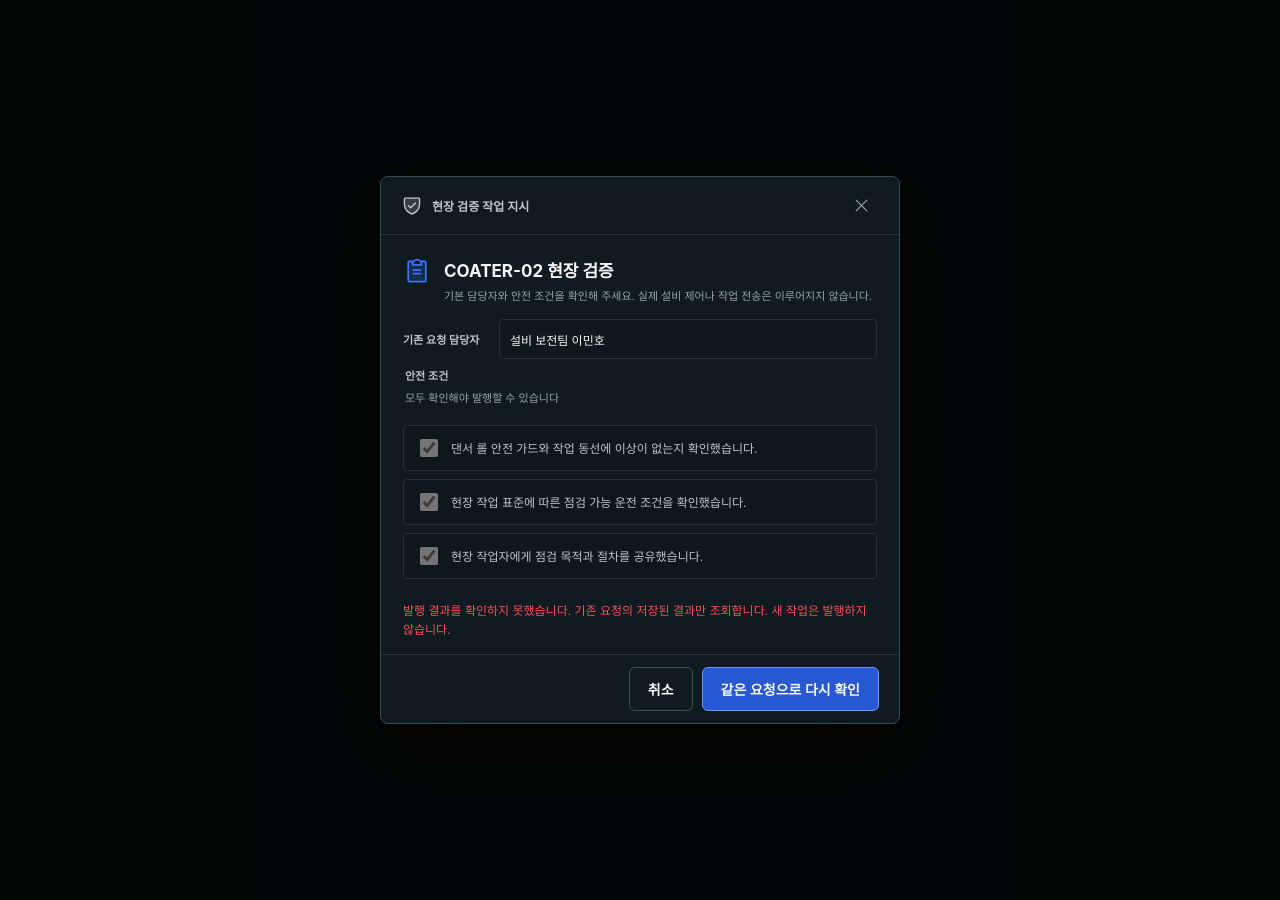
recovers an existing request when diagnostic evidence is no longer valid without issuing again
Click the button "같은 요청으로 다시 확인".
click(790, 690)  # box x1=702 y1=668 x2=879 y2=712
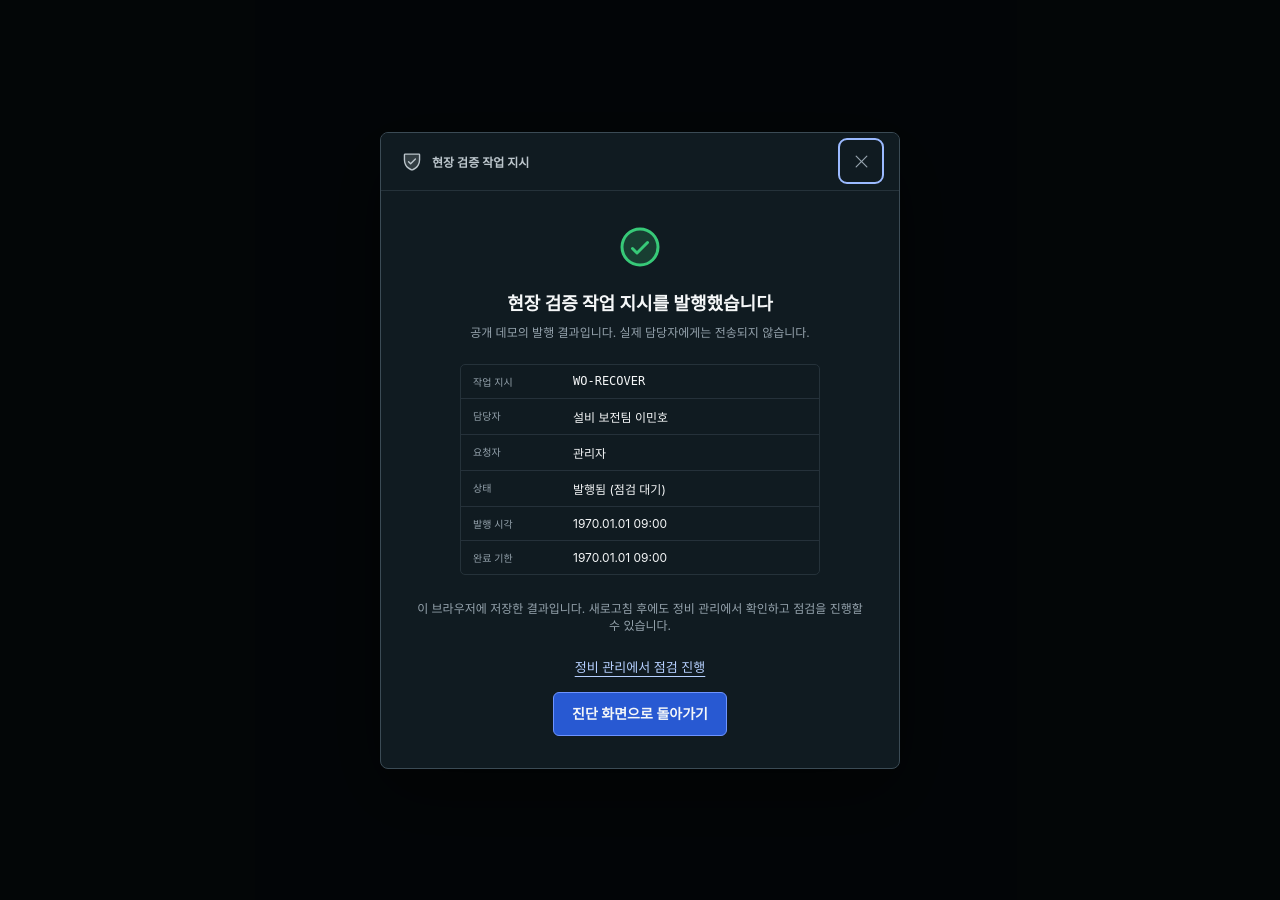
expect the element with test id "verification-success" is shown: met, box x1=381 y1=190 x2=899 y2=768
